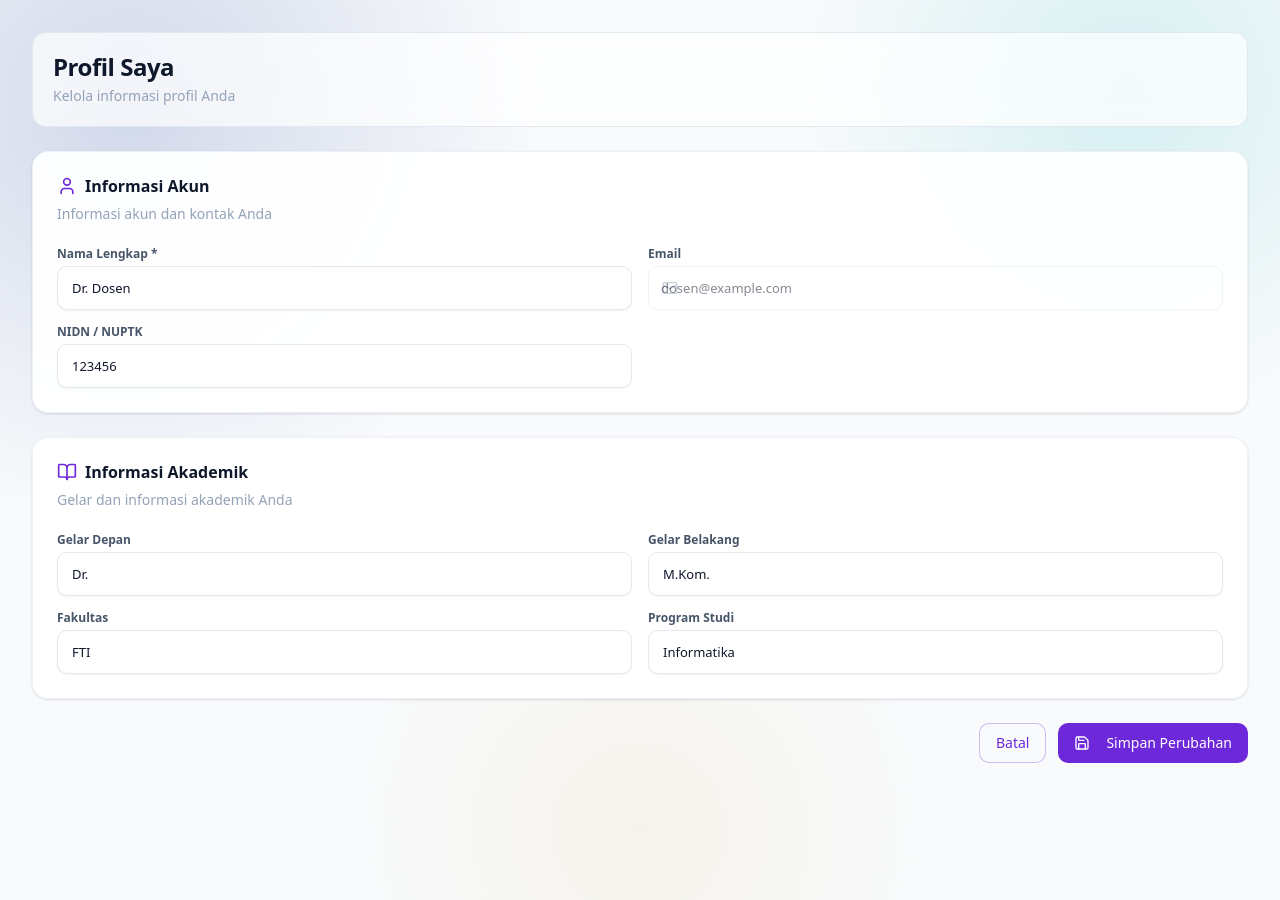
Test: Dosen ProfilePage › menyimpan perubahan profil
The image size is (1280, 900).
Replace the text in the field labelled "Nama Lengkap *" with "Dr. Dosen Update" at (344,288), box [57, 266, 632, 310]
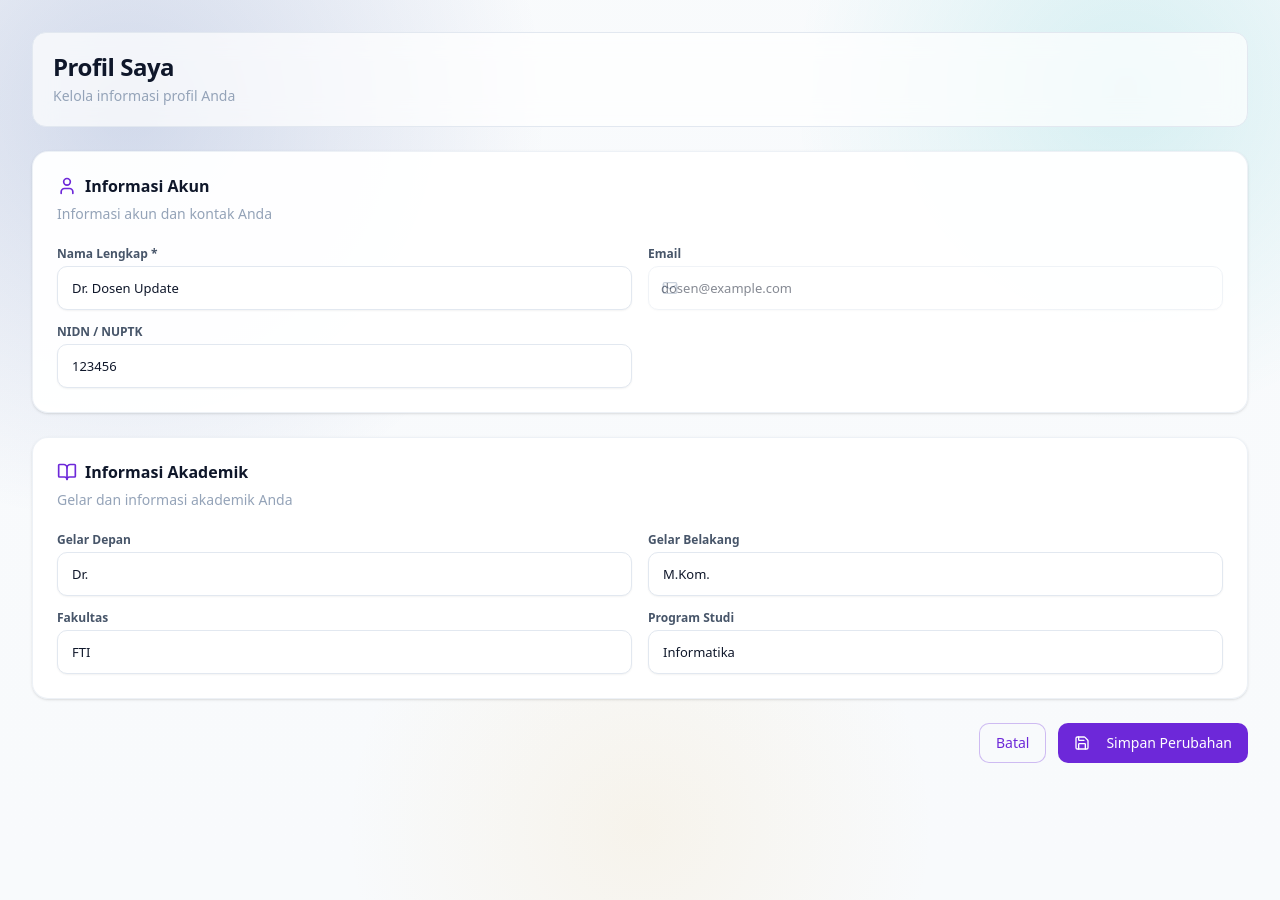
Click the button "Simpan Perubahan" at (1153,743), box [1058, 723, 1248, 763]
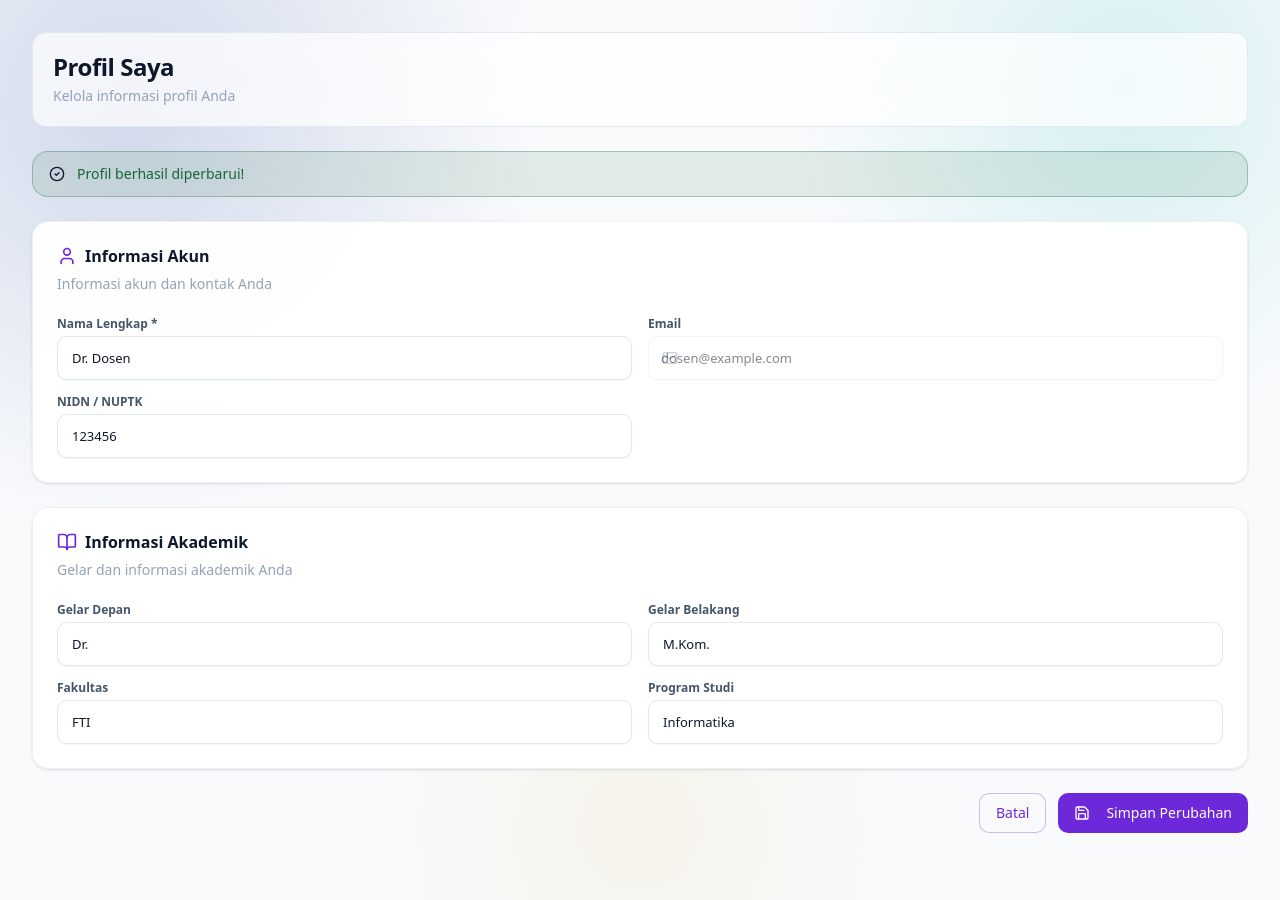
Result: the text "Profil berhasil diperbarui!" is shown at [77, 164, 244, 183]
